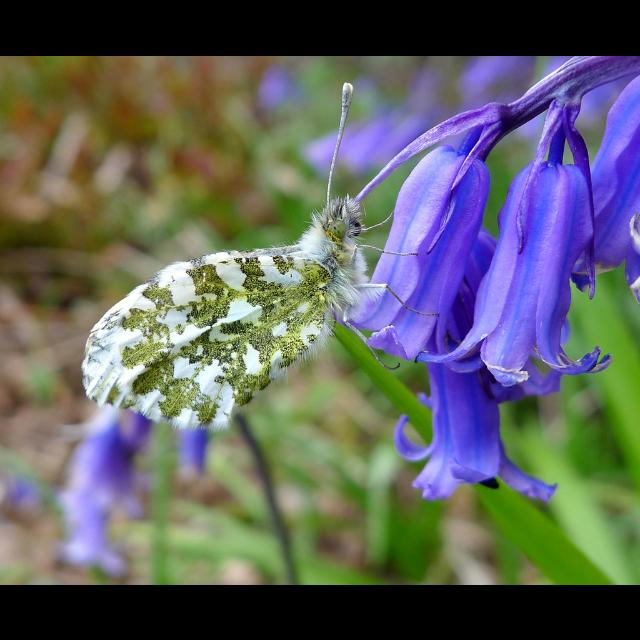Flower: (338, 56, 640, 497), (0, 392, 214, 570), (258, 61, 300, 106)
